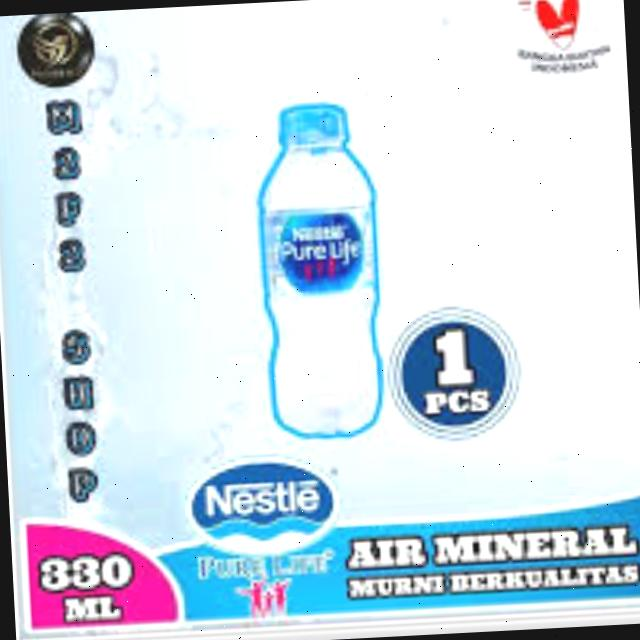trash: (248, 98, 395, 446)
